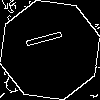I: (25, 25, 72, 50)
